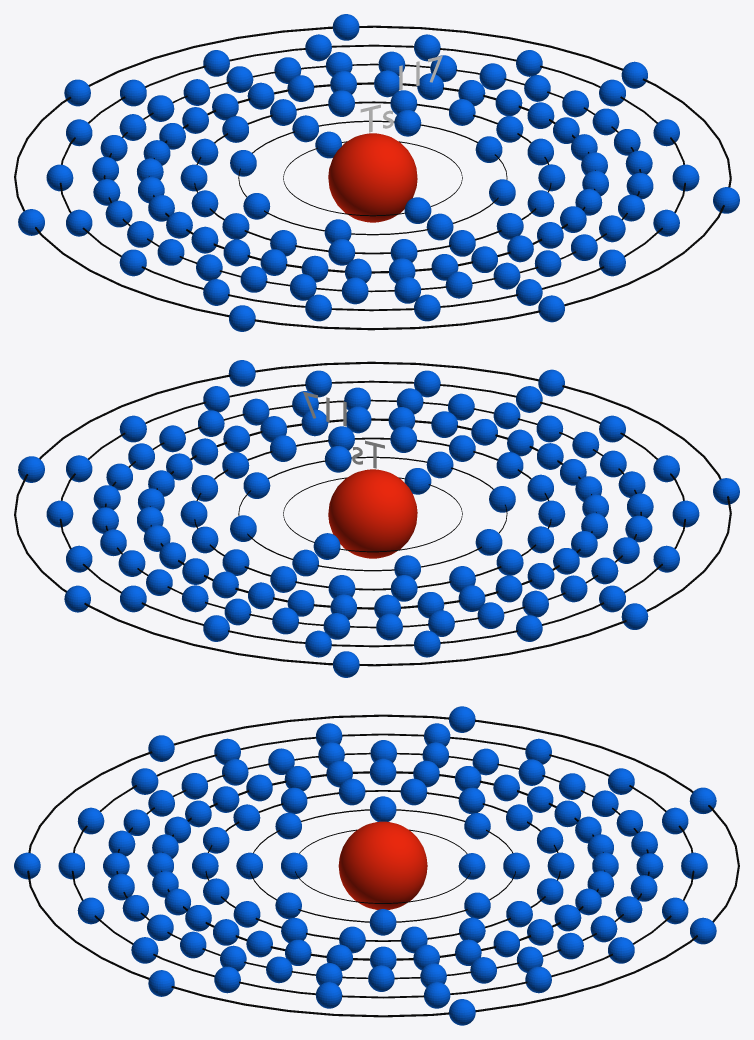
3 views of the same model, one above another, from view 1: azimuth 30°, elevation 25°; view 2: azimuth 150°, elevation 25°; view 3: azimuth 270°, elevation 25° (orthographic).
Visible parts, largest first — view 1: Ts5, Ts4, Ts6, Ts3, Proton, Ts2, n7, Ts7, n6, n5, Ts1, n3 (+2 smaller); view 2: Ts5, Ts4, Ts6, Ts3, Proton, Ts2, n7, Ts7, n6, n5, Ts1, n3 (+2 smaller); view 3: Ts5, Ts4, Ts3, Ts6, Proton, Ts2, n7, Ts7, n6, Ts1, n5, n3 (+2 smaller).
Boxes of the visible parts, x1=… form: Ts5: x1=92, y1=51, x2=653, y2=304; Ts4: x1=137, y1=70, x2=608, y2=283; Ts6: x1=46, y1=34, x2=699, y2=321; Ts3: x1=180, y1=90, x2=565, y2=265; Proton: x1=328, y1=133, x2=417, y2=222; Ts2: x1=230, y1=109, x2=515, y2=243; n7: x1=14, y1=25, x2=731, y2=330; Ts7: x1=18, y1=14, x2=739, y2=331; n6: x1=59, y1=44, x2=685, y2=311; n5: x1=103, y1=63, x2=641, y2=292; Ts1: x1=315, y1=131, x2=431, y2=223; n3: x1=194, y1=101, x2=551, y2=254; Ts5: x1=92, y1=387, x2=653, y2=640; Ts4: x1=137, y1=406, x2=608, y2=619; Ts6: x1=46, y1=370, x2=699, y2=657; Ts3: x1=180, y1=426, x2=565, y2=601; Proton: x1=328, y1=469, x2=417, y2=558; Ts2: x1=230, y1=446, x2=515, y2=579; n7: x1=14, y1=361, x2=731, y2=666; Ts7: x1=18, y1=360, x2=739, y2=677; n6: x1=59, y1=380, x2=685, y2=647; n5: x1=105, y1=399, x2=641, y2=628; Ts1: x1=313, y1=468, x2=431, y2=559; n3: x1=194, y1=437, x2=551, y2=590; Ts5: x1=103, y1=740, x2=663, y2=991; Ts4: x1=147, y1=758, x2=618, y2=971; Ts3: x1=192, y1=778, x2=574, y2=953; Ts6: x1=58, y1=723, x2=707, y2=1008; Proton: x1=338, y1=821, x2=427, y2=909; Ts2: x1=236, y1=796, x2=529, y2=935; n7: x1=27, y1=714, x2=739, y2=1017; Ts7: x1=14, y1=706, x2=716, y2=1025; n6: x1=71, y1=733, x2=694, y2=998; Ts1: x1=281, y1=852, x2=485, y2=879; n5: x1=116, y1=752, x2=649, y2=979; n3: x1=205, y1=790, x2=560, y2=941.
Size of the model in its own units: 808 by 180 by 816.
